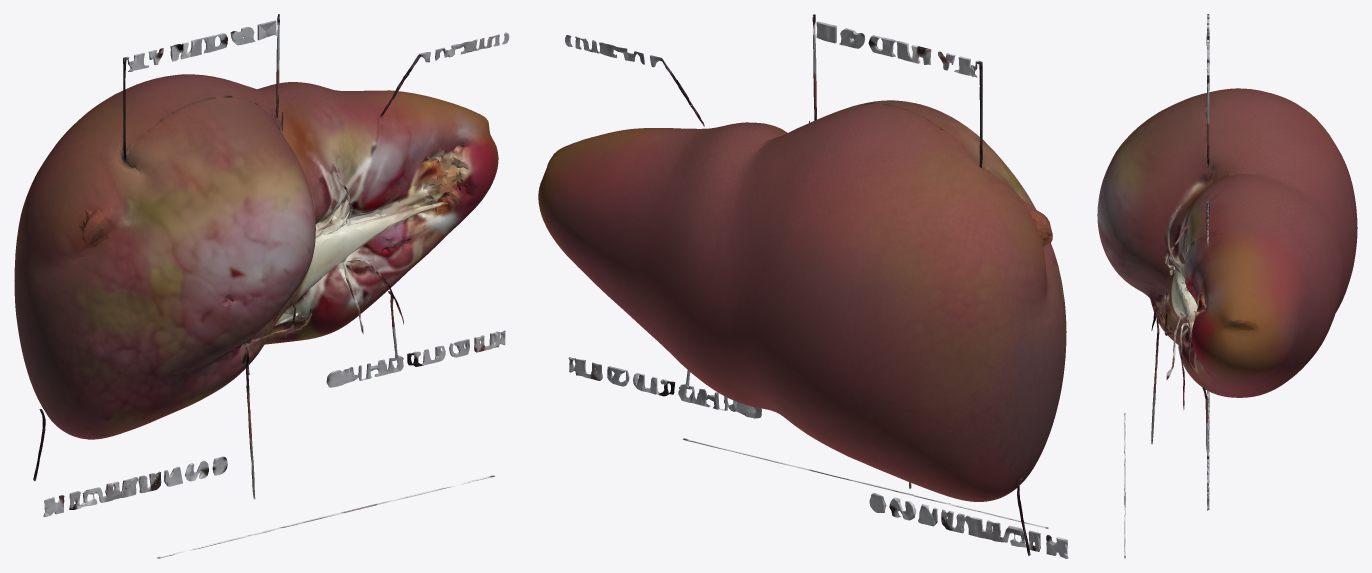
Rendered from liver_cirrhosis.glb.
3 views of the same model, side by side, from view 1: azimuth 30°, elevation 25°; view 2: azimuth 150°, elevation 25°; view 3: azimuth 270°, elevation 25° (orthographic). The views are drawn at different scales.
Visible parts, largest first — view 1: model; view 2: model; view 3: model.
Part boxes in pixels (<box>): model: <box>14,14,509,558</box>; model: <box>538,14,1068,558</box>; model: <box>1097,14,1357,558</box>.
Bounding box in the file's own units: 1.9 × 1.83 × 1.05.
Materials: 1 (1 with a texture image).
